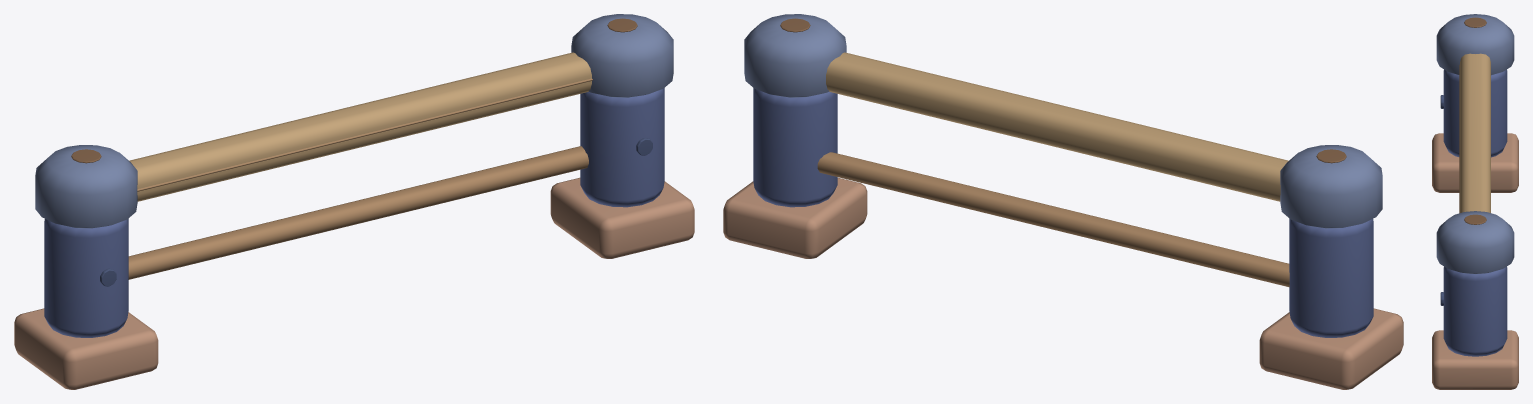
File: safety-rail.glb
3 views of the same model, side by side, from view 1: azimuth 30°, elevation 25°; view 2: azimuth 150°, elevation 25°; view 3: azimuth 270°, elevation 25° (orthographic). The views are drawn at different scales.
Parts seen in each view (by area): view 1: safety-rail; view 2: safety-rail; view 3: safety-rail.
Boxes of the visible parts, x1,y1,x2,y2 form: safety-rail: (14, 14, 694, 389); safety-rail: (723, 14, 1403, 389); safety-rail: (1432, 14, 1518, 389).
Bounding box in the file's own units: 2.4 × 0.756 × 0.38.
